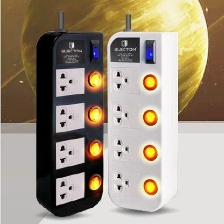three_eye_plug: (104, 27, 181, 216), (33, 29, 106, 218)
